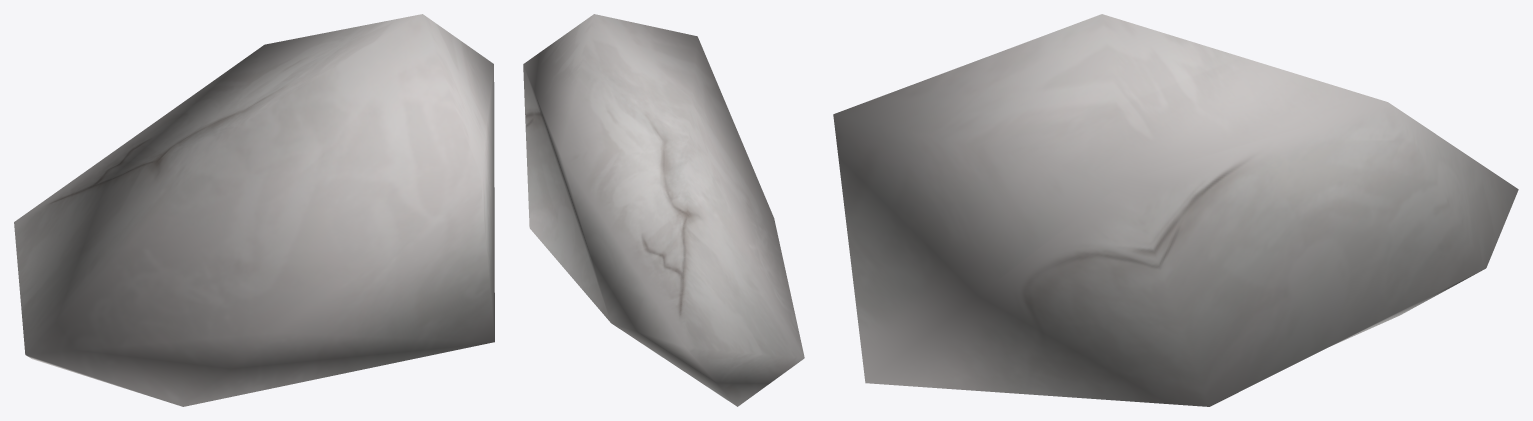
File: Rock2.FBX
3 renders of one model, left to right at view 1: azimuth 30°, elevation 25°; view 2: azimuth 150°, elevation 25°; view 3: azimuth 270°, elevation 25°, orthographic. The views are drawn at different scales.
Visible parts, largest first — view 1: Box001; view 2: Box001; view 3: Box001.
Part boxes in pixels (<box>): Box001: <box>14,14,494,406</box>; Box001: <box>523,14,804,406</box>; Box001: <box>833,14,1518,406</box>.
Bounding box in the file's own units: 54.87 × 44.66 × 55.42.
Materials: 1 (1 with a texture image).
